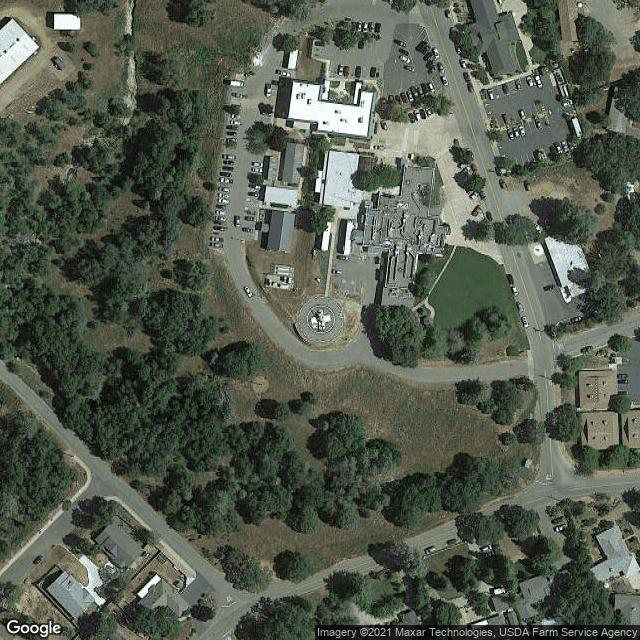Helipad: (303, 301, 340, 334)
